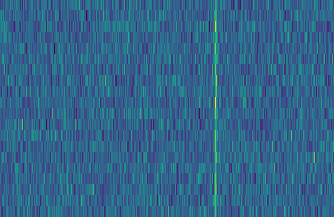signal: (211, 0, 220, 217)
